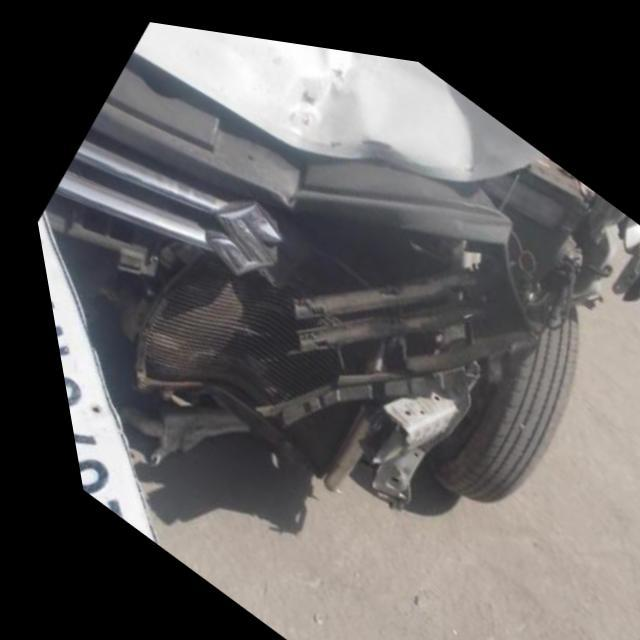dent: (274, 37, 533, 160)
no part: (30, 28, 640, 506)
